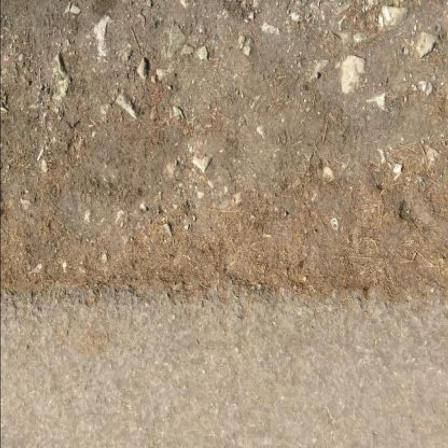Cigarette: (38, 149, 45, 163)
Pop tab: (330, 219, 339, 232)
